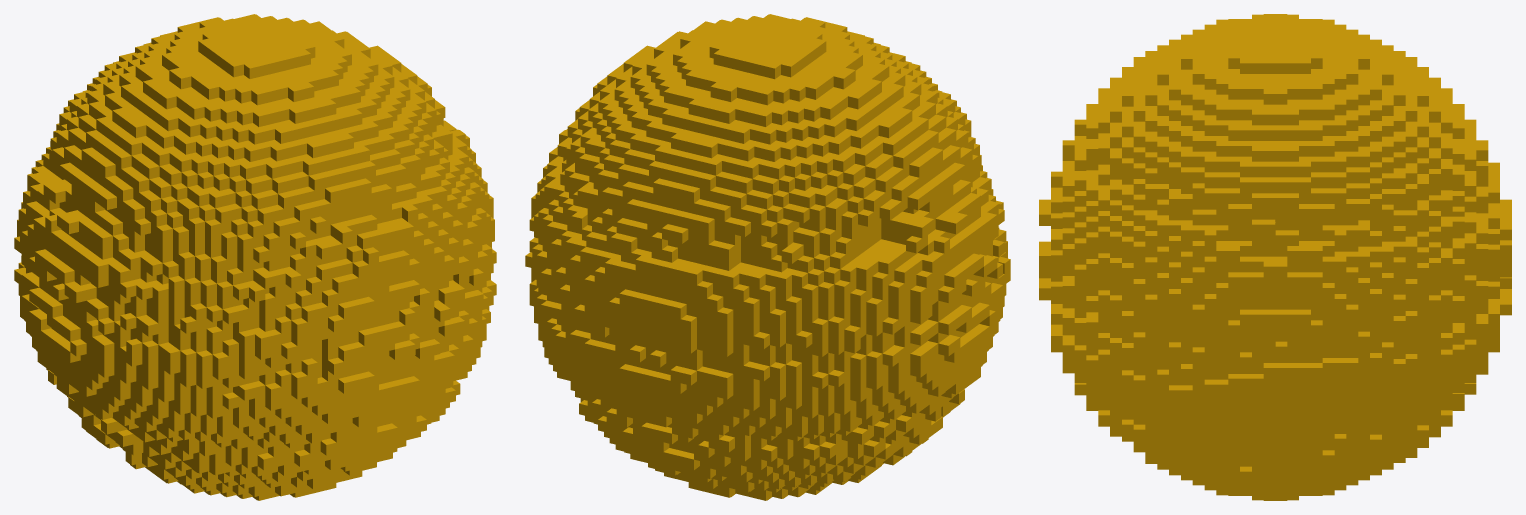
Rendered from Estrela_Variavel#d8a201.dae.
3 renders of one model, left to right at view 1: azimuth 30°, elevation 25°; view 2: azimuth 150°, elevation 25°; view 3: azimuth 270°, elevation 25°, orthographic.
Visible parts, largest first — view 1: Estrela_Variavel#d8a201-obj.vox; view 2: Estrela_Variavel#d8a201-obj.vox; view 3: Estrela_Variavel#d8a201-obj.vox.
Part boxes in pixels (x1,y1,x2,y2): Estrela_Variavel#d8a201-obj.vox: [14, 14, 496, 500]; Estrela_Variavel#d8a201-obj.vox: [525, 14, 1010, 500]; Estrela_Variavel#d8a201-obj.vox: [1039, 14, 1511, 500].
Bounding box in the file's own units: 4 × 4 × 4.
